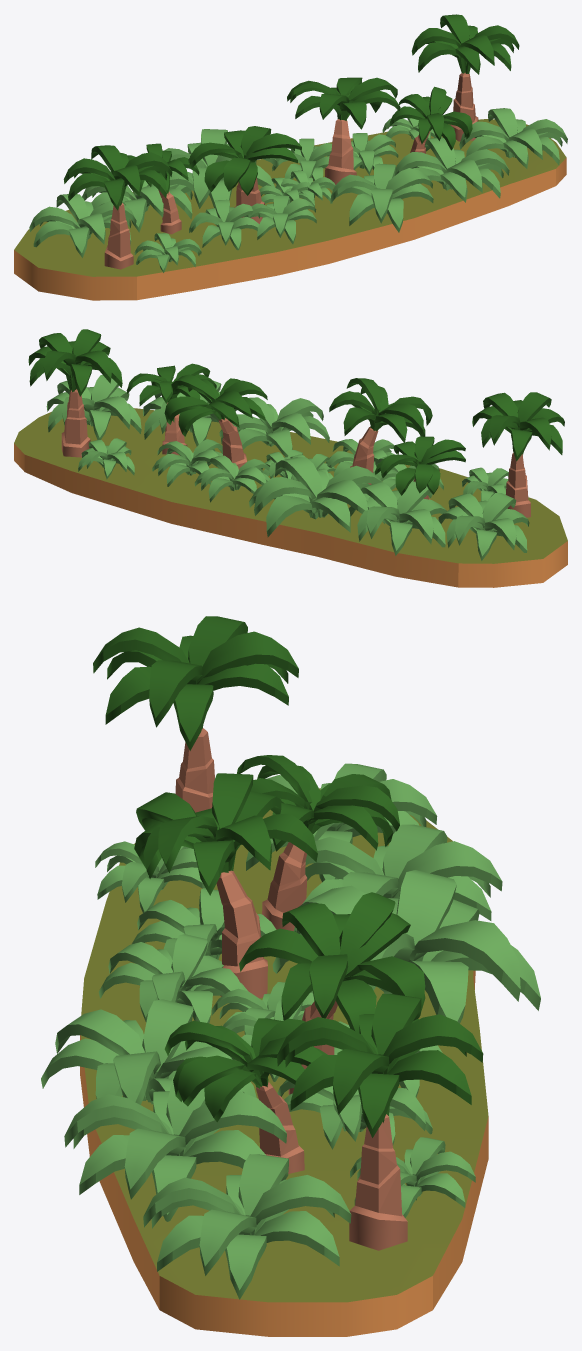
The model's file is Wall v1.fbx.
3 views of the same model, one above another, from view 1: azimuth 30°, elevation 25°; view 2: azimuth 150°, elevation 25°; view 3: azimuth 270°, elevation 25° (orthographic). The views are drawn at different scales.
Parts seen in each view (by area): view 1: Wall v1; view 2: Wall v1; view 3: Wall v1.
Boxes of the visible parts, x1,y1,x2,y2 form: Wall v1: [14, 14, 567, 300]; Wall v1: [14, 329, 567, 587]; Wall v1: [41, 616, 540, 1336].
Bounding box in the file's own units: 21.66 × 5.26 × 9.02.
